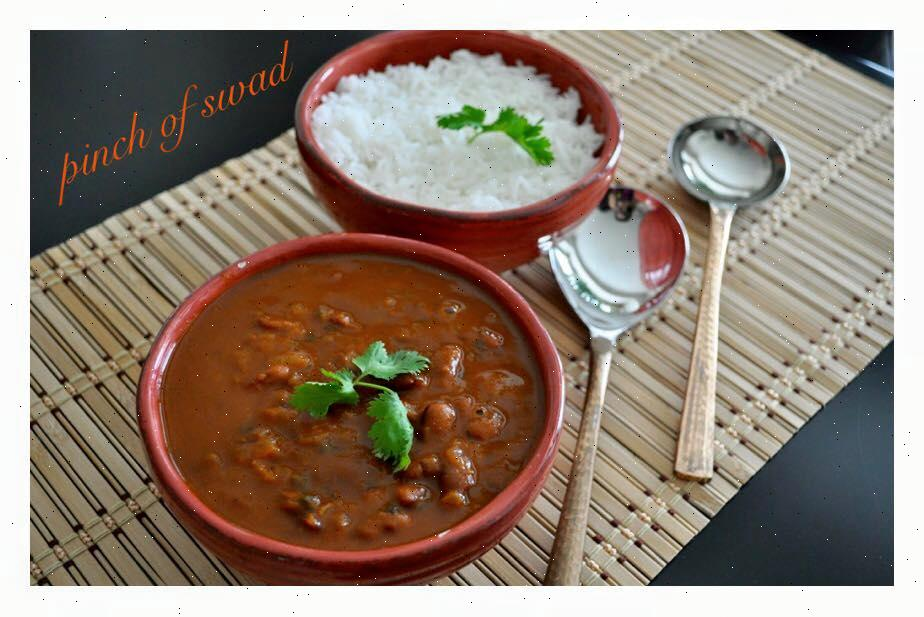rajma: (128, 253, 518, 537)
rice: (330, 48, 587, 208)
